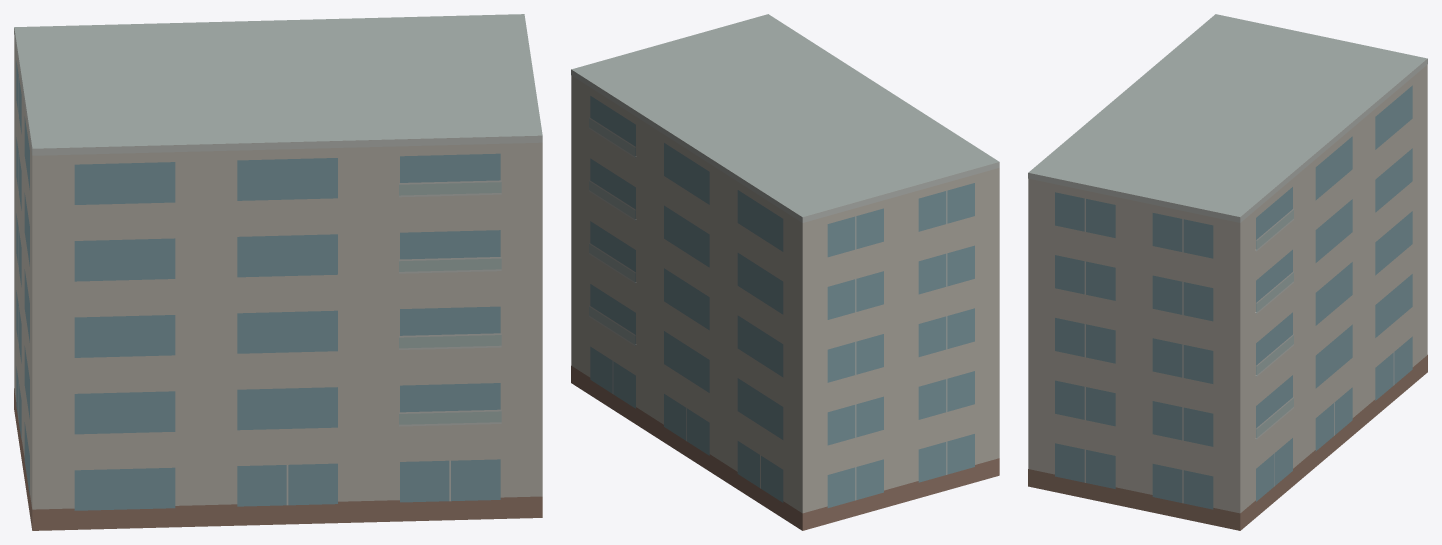
The model's file is survey-upis-32886176.glb.
3 renders of one model, left to right at view 1: azimuth 30°, elevation 25°; view 2: azimuth 150°, elevation 25°; view 3: azimuth 270°, elevation 25°, orthographic. The views are drawn at different scales.
Visible parts, largest first — view 1: survey-upis-32886176.tmp; view 2: survey-upis-32886176.tmp; view 3: survey-upis-32886176.tmp.
Part boxes in pixels (x1,y1,x2,y2): survey-upis-32886176.tmp: (14,14,542,530); survey-upis-32886176.tmp: (571,14,999,530); survey-upis-32886176.tmp: (1028,14,1427,530).
Size of the model in its own units: 18.34 by 13.2 by 15.25.
